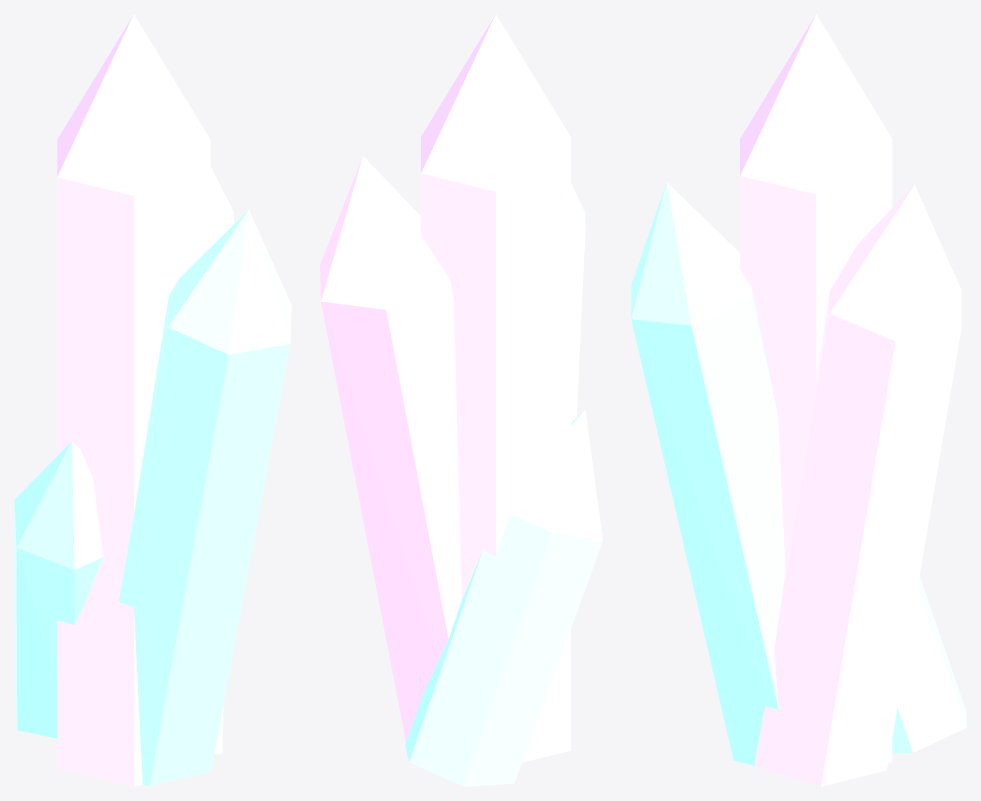
The model's file is crystal_spire_alive.glb.
The picture shows the model from 3 angles, left to right: view 1: azimuth 30°, elevation 25°; view 2: azimuth 150°, elevation 25°; view 3: azimuth 270°, elevation 25°; orthographic projection. The views are drawn at different scales.
Visible parts, largest first — view 1: crystal_body; view 2: crystal_body; view 3: crystal_body.
Boxes of the visible parts, x1,y1,x2,y2 form: crystal_body: (14,14,291,786); crystal_body: (320,14,602,786); crystal_body: (631,14,966,786).
Bounding box in the file's own units: 0.303 × 0.8396 × 0.35.
